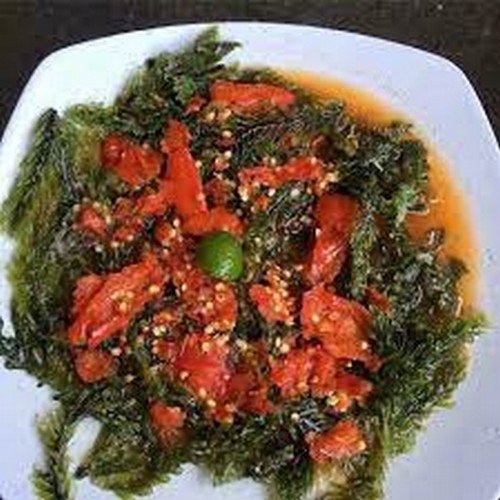bulung buni: (31, 50, 447, 486)
